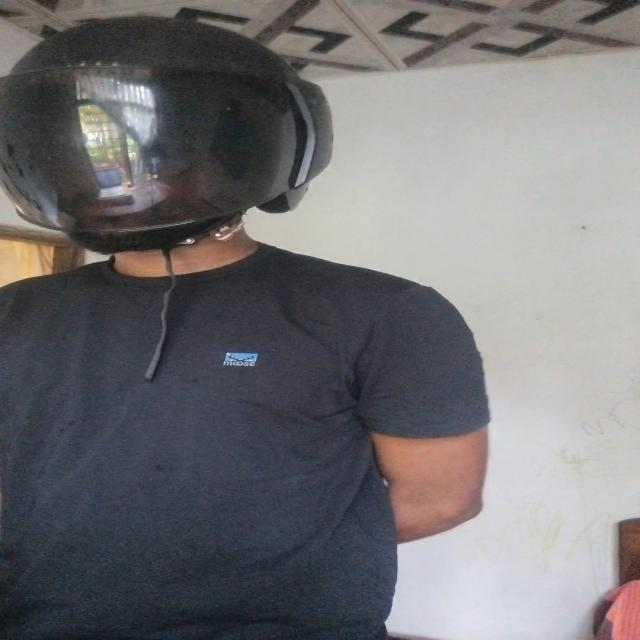Helmet_Wearer: (8, 11, 328, 317)
Person: (0, 10, 492, 640)
